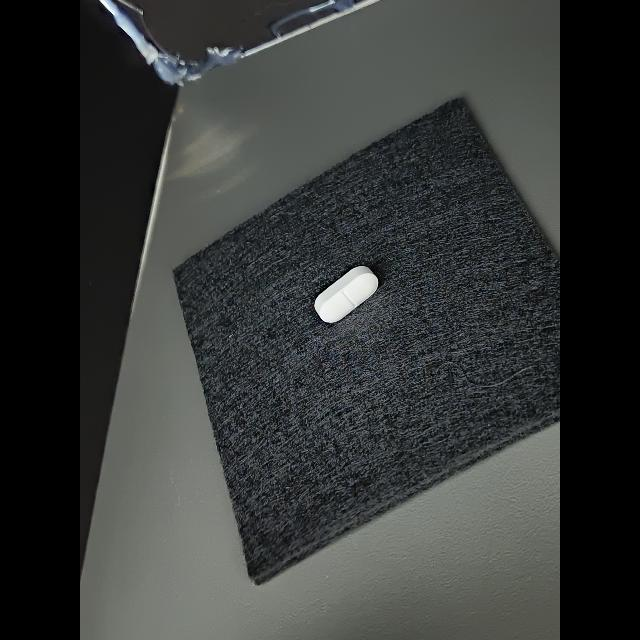Intact Pill: (314, 266, 378, 323)
